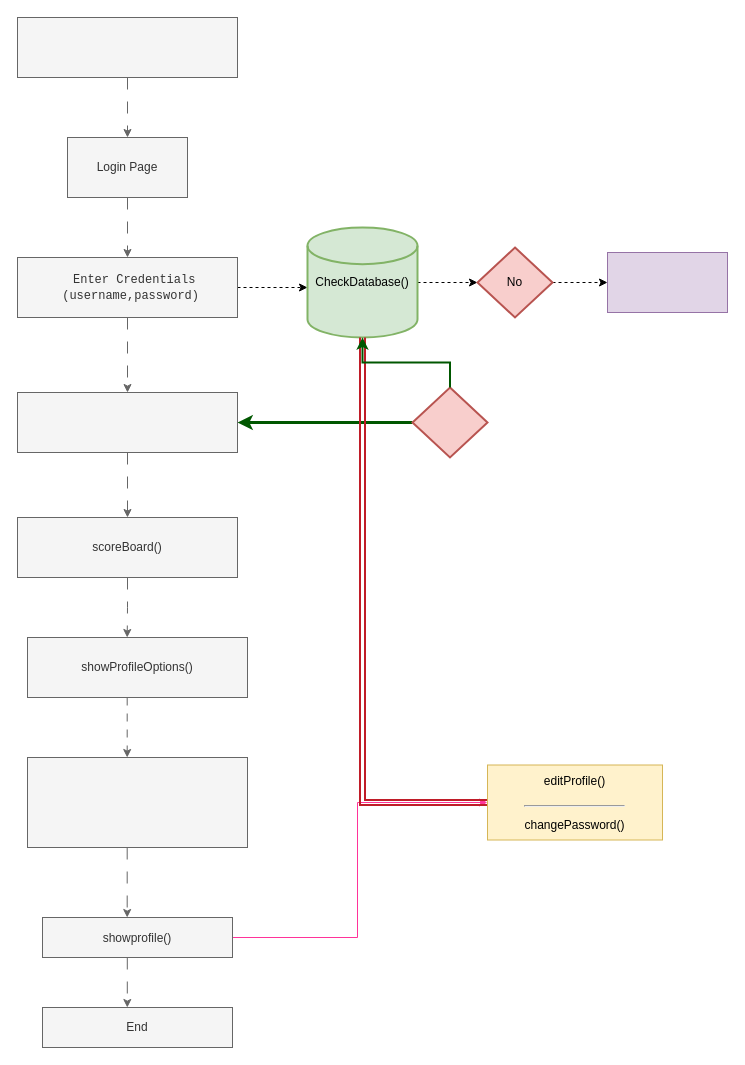
The diagram is 745 pixels wide and 1065 high, and some of its shapes have lost their labels. Here are the shapes that lost their labels. From the top down, the centre of each, then its label:
At [127,47]: "Start".
At [667,282]: "errorMessage()".
At [127,422]: "showDashboard()".
At [449,422]: "Yes".
At [137,802]: "userProfile showprofile() editProfile() changePassword()".
